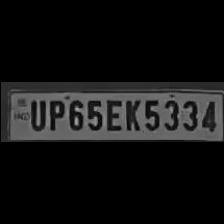3: (180, 97, 198, 131), (162, 97, 178, 131)
4: (198, 96, 218, 132)
5: (140, 96, 160, 130), (84, 97, 102, 131)
6: (64, 97, 82, 131)
E: (104, 96, 122, 132)
K: (122, 96, 140, 132)
P: (45, 96, 63, 132)
U: (26, 97, 44, 131)
